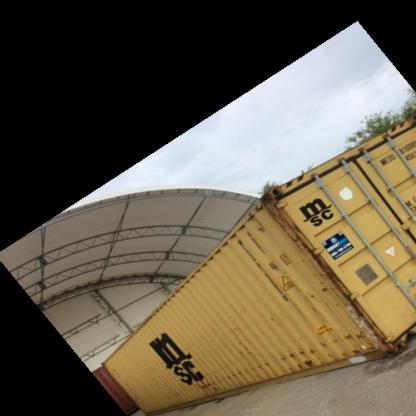Damage: (320, 252, 393, 354), (268, 190, 320, 256)
